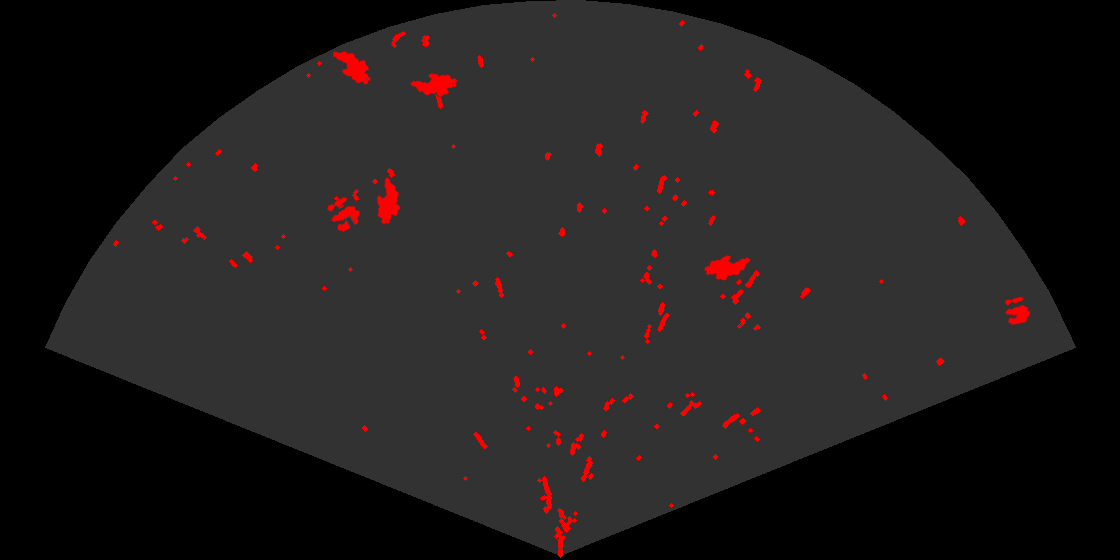AUV: (332, 50, 372, 86), (703, 254, 752, 282), (375, 176, 402, 226), (409, 72, 459, 98)
ball: (326, 196, 361, 233), (1003, 295, 1032, 327)
